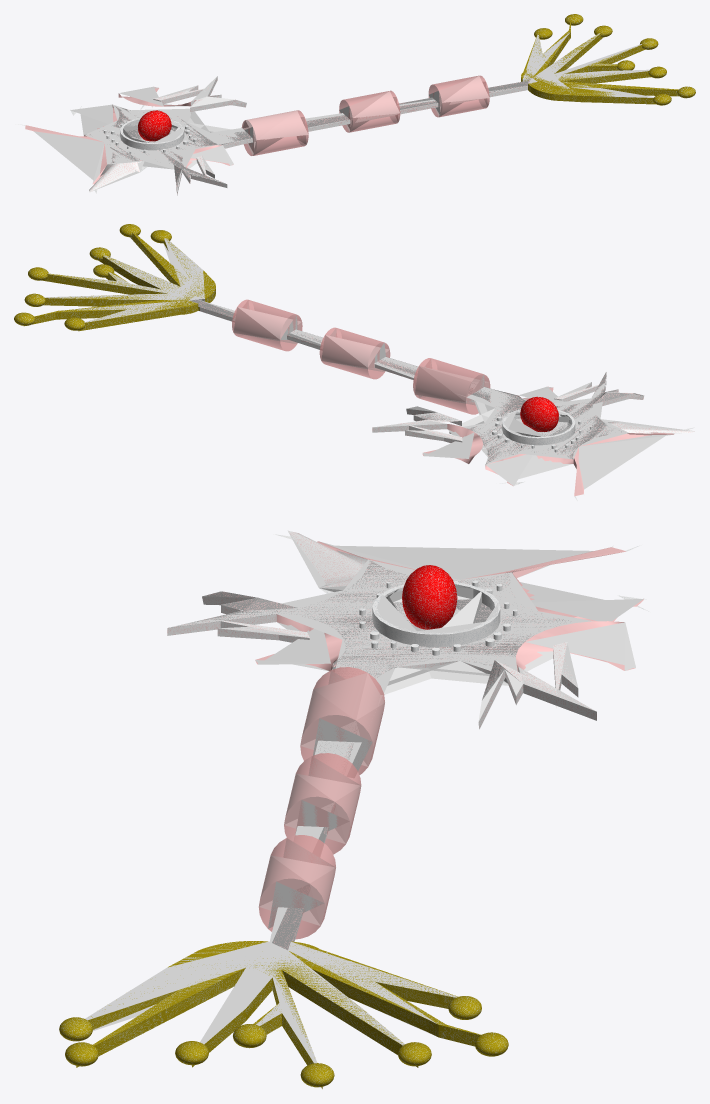
File: neuron.fbx
3 renders of one model, top to bottom at view 1: azimuth 30°, elevation 25°; view 2: azimuth 150°, elevation 25°; view 3: azimuth 270°, elevation 25°, orthographic. The views are drawn at different scales.
Parts seen in each view (by area): view 1: AxonMC, SketchUp_001, group_0, SketchUp_045, group_1, group_2, SketchUp_043, SketchUp, SketchUp_003, SketchUp_048, SketchUp_009, SketchUp_047; view 2: AxonMC, SketchUp_001, SketchUp_045, group_0, group_2, group_1, SketchUp_048, SketchUp_003, SketchUp_043, SketchUp_047, SketchUp_009, SketchUp_049 (+1 smaller); view 3: AxonMC, SketchUp_001, SketchUp_045, group_0, group_2, group_1, SketchUp_043, SketchUp_003, SketchUp_048, SketchUp_009, SketchUp_049, SketchUp_047.
Boxes of the visible parts, x1,y1,x2,y2 form: AxonMC: [34, 32, 654, 191]; SketchUp_001: [521, 21, 678, 104]; group_0: [241, 110, 308, 155]; SketchUp_045: [84, 80, 529, 190]; group_1: [339, 90, 400, 132]; group_2: [428, 75, 489, 117]; SketchUp_043: [89, 155, 227, 195]; SketchUp: [223, 86, 527, 148]; SketchUp_003: [138, 110, 171, 141]; SketchUp_048: [153, 76, 246, 112]; SketchUp_009: [120, 118, 184, 150]; SketchUp_047: [25, 105, 117, 184]; AxonMC: [44, 238, 691, 489]; SketchUp_001: [24, 232, 215, 331]; SketchUp_045: [191, 299, 642, 464]; group_0: [413, 358, 490, 414]; group_2: [232, 299, 302, 351]; group_1: [319, 327, 390, 379]; SketchUp_048: [372, 408, 462, 442]; SketchUp_003: [520, 396, 558, 432]; SketchUp_043: [554, 373, 694, 433]; SketchUp_047: [485, 432, 673, 496]; SketchUp_009: [502, 409, 575, 445]; SketchUp_049: [422, 424, 482, 463]; AxonMC: [85, 531, 643, 1063]; SketchUp_001: [76, 941, 481, 1088]; SketchUp_045: [171, 561, 571, 950]; group_0: [300, 667, 384, 774]; group_2: [258, 835, 335, 939]; group_1: [284, 753, 361, 854]; SketchUp_043: [167, 530, 367, 642]; SketchUp_003: [402, 565, 457, 629]; SketchUp_048: [478, 642, 596, 729]; SketchUp_009: [372, 581, 500, 647]; SketchUp_049: [516, 621, 635, 671]; SketchUp_047: [317, 541, 643, 621].
Size of the model in its own units: 1081 by 83.31 by 481.
